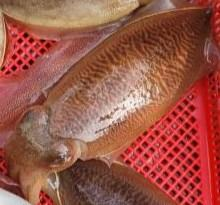Cephalopod: (2, 6, 219, 204)
